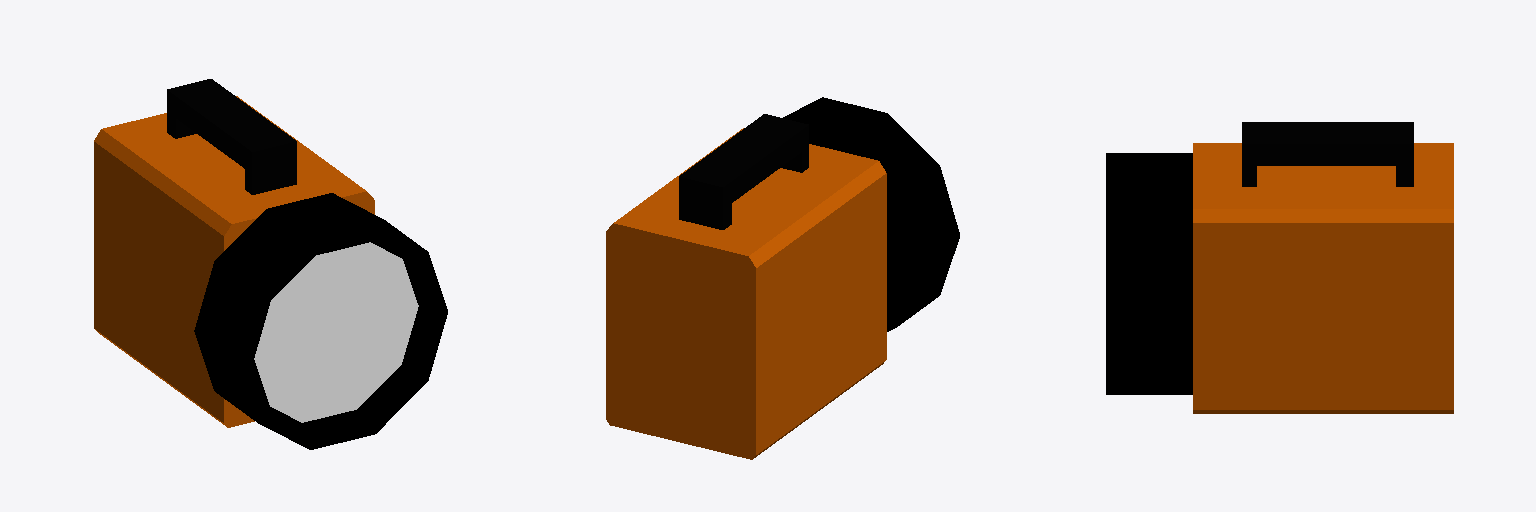
Rendered from flashlight.obj.
The picture shows the model from 3 angles: view 1: azimuth 30°, elevation 25°; view 2: azimuth 150°, elevation 25°; view 3: azimuth 270°, elevation 25°; orthographic projection.
Parts seen in each view (by area): view 1: Cube, Cylinder, Cylinder.001, Cube.001; view 2: Cube, Cylinder, Cube.001; view 3: Cube, Cylinder, Cube.001.
Part boxes in pixels (x1,y1,x2,y2): Cube: (94,96,374,427); Cylinder: (194,193,447,449); Cylinder.001: (254,242,418,422); Cube.001: (167,79,296,194); Cube: (606,128,886,459); Cylinder: (783,97,959,331); Cube.001: (679,114,808,229); Cube: (1193,143,1453,413); Cylinder: (1106,153,1192,394); Cube.001: (1242,122,1413,186).
Bounding box in the file's own units: 0.14 × 0.1561 × 0.2002.